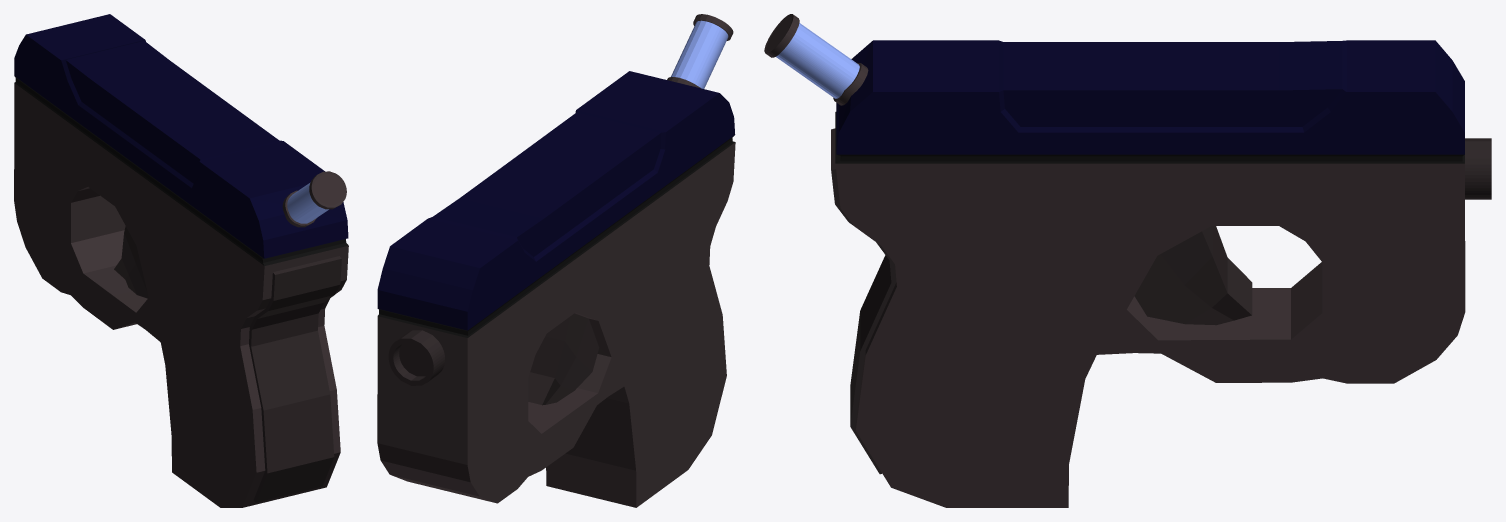
The model's file is PlasmaBlasterModel.fbx.
3 renders of one model, left to right at view 1: azimuth 30°, elevation 25°; view 2: azimuth 150°, elevation 25°; view 3: azimuth 270°, elevation 25°, orthographic. The views are drawn at different scales.
Parts seen in each view (by area): view 1: Cube; view 2: Cube; view 3: Cube.
Part boxes in pixels (box(x1,y1,x2,y2)): Cube: box(14, 14, 348, 507); Cube: box(377, 14, 735, 507); Cube: box(764, 14, 1491, 507).
Bounding box in the file's own units: 75.03 × 315 × 447.
